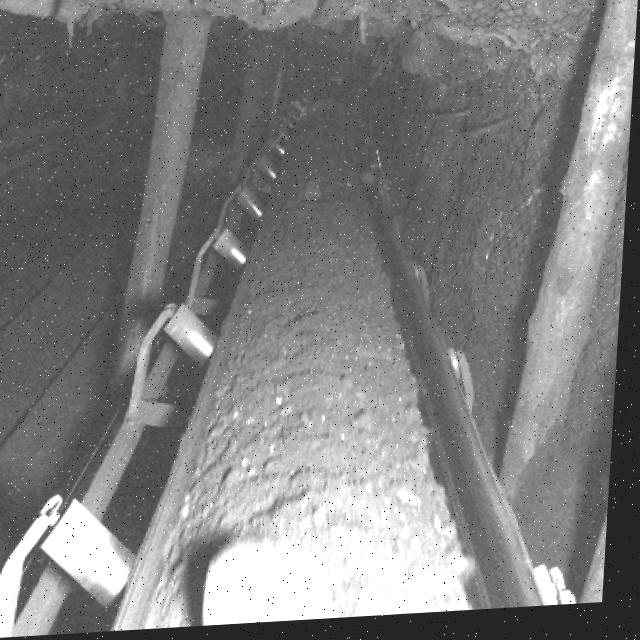large_sized_coal: (210, 530, 349, 629)
